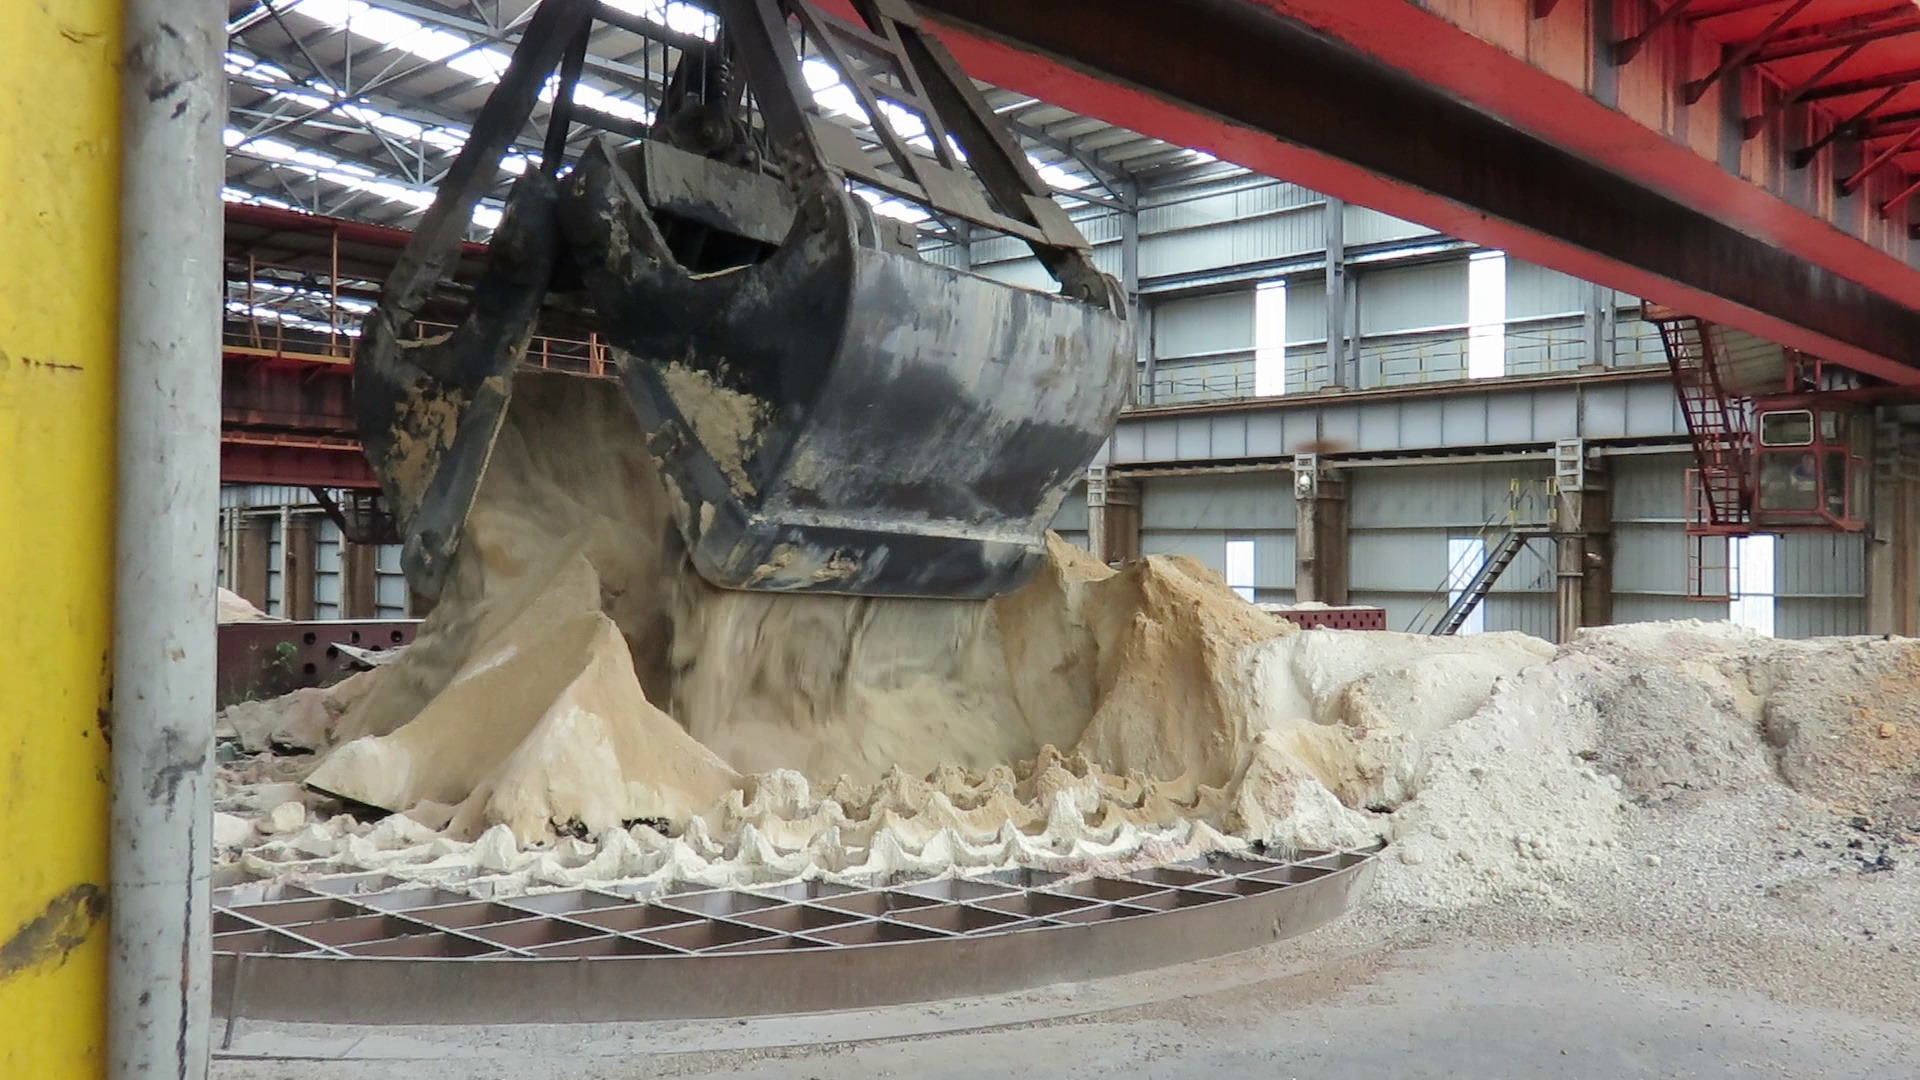grab: (359, 0, 1137, 620)
